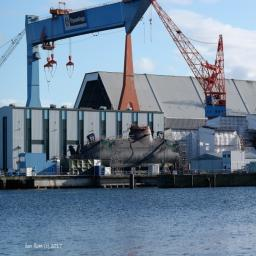submarine: (68, 126, 185, 165)
